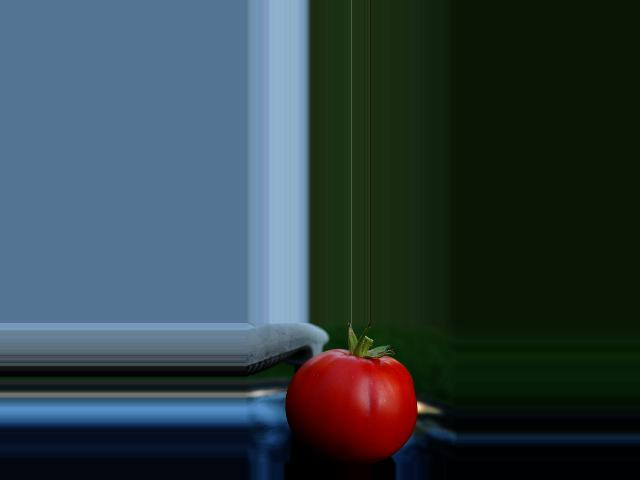tomato: (285, 349, 417, 464)
